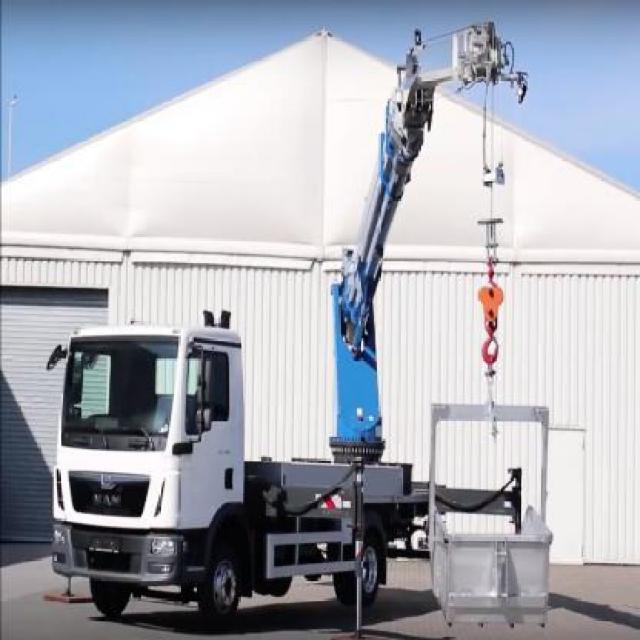Mobile Crane: (43, 13, 526, 633)
